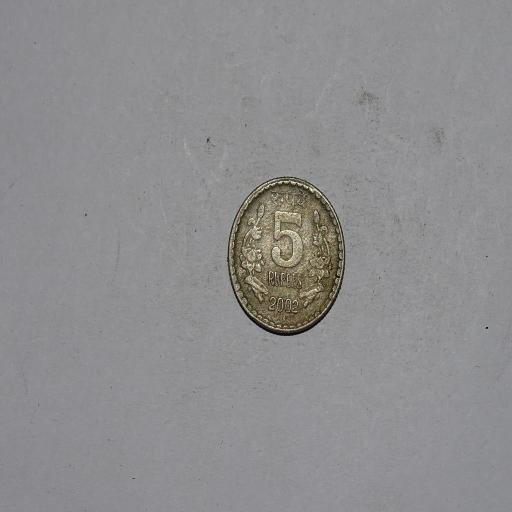rupee5: (223, 173, 345, 337)
